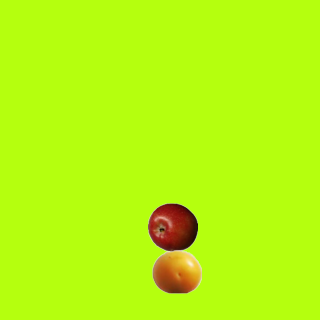Apple Braeburn: (147, 202, 197, 252)
Cherry Wax Yellow: (151, 246, 201, 296)
